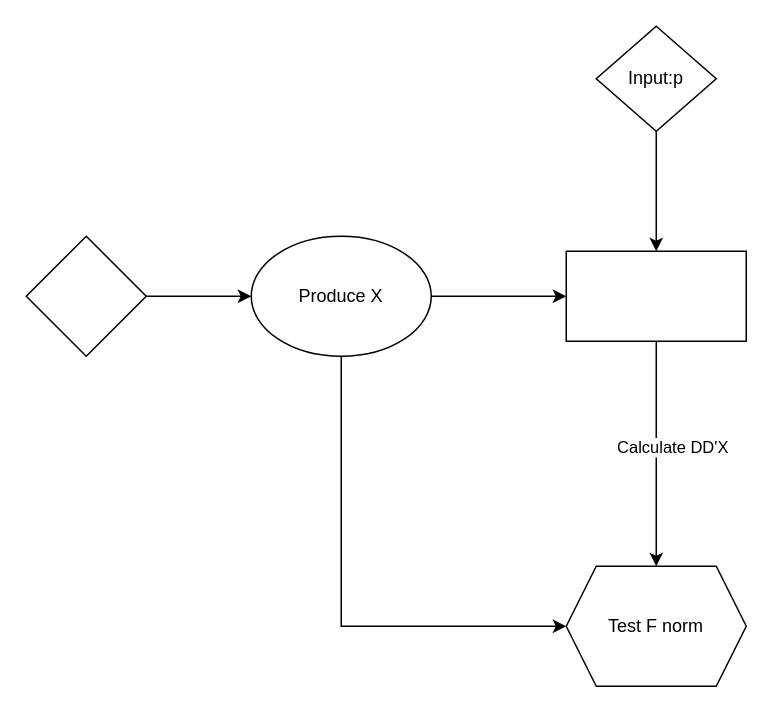
This 773x713 diagram has some shape labels left out. The box of each missing label's shape, as (x1, y1, x2, y2) in pixels:
Select n,m: (25, 235, 146, 356)
Take p values and p vectors: (565, 250, 746, 341)
